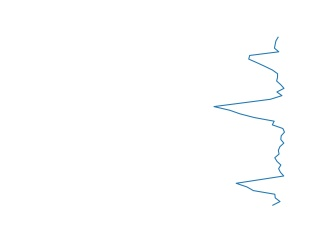underwaterNaturalLevee: (212, 37, 291, 207)
